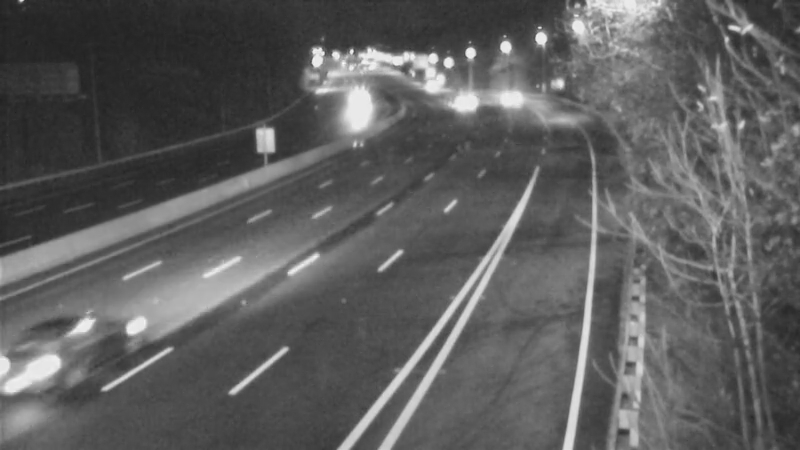vehicle: (8, 289, 118, 399), (403, 60, 453, 110), (480, 75, 530, 125), (436, 78, 486, 128), (331, 78, 381, 128)
